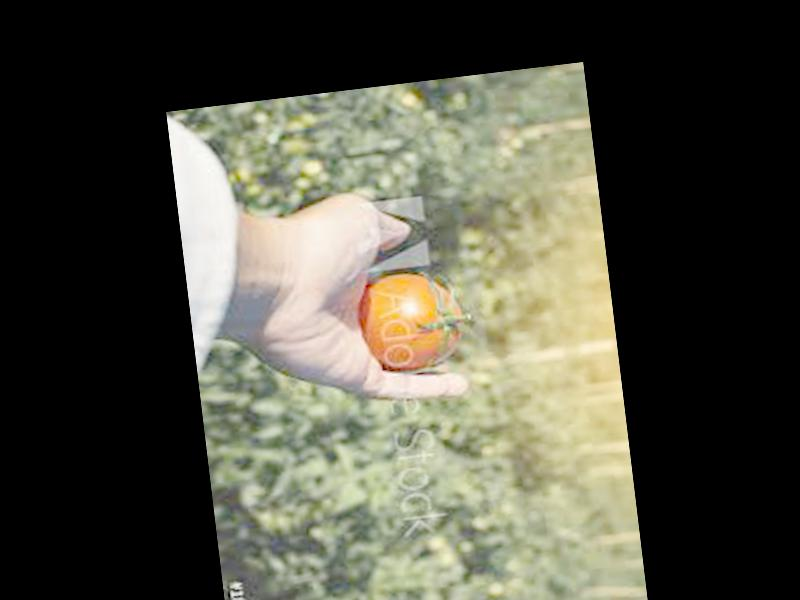Tomato: (359, 270, 466, 376)
